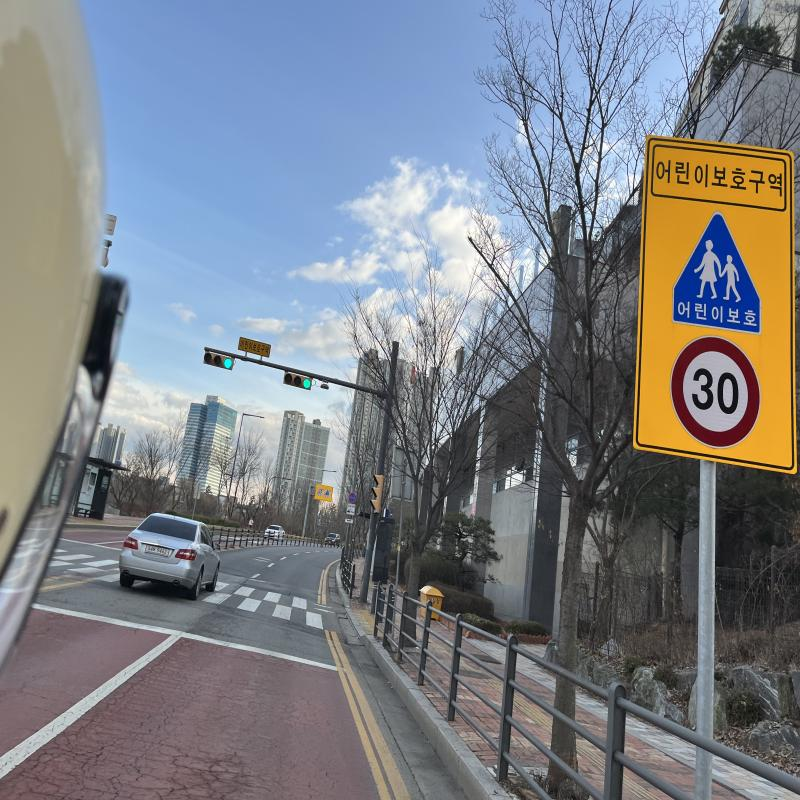green: (222, 357, 234, 370), (302, 377, 312, 390)
